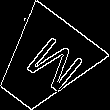M_SW: (9, 29, 79, 97)
